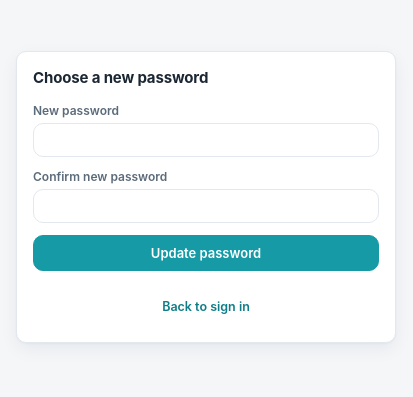
it: ResetPasswordPage › submit_WhenResetFails_ShouldRenderTheGenericFailureMessage
In the password field labelled "New password": (206, 140) x1=33 y1=123 x2=379 y2=157, type "brand-new-password"
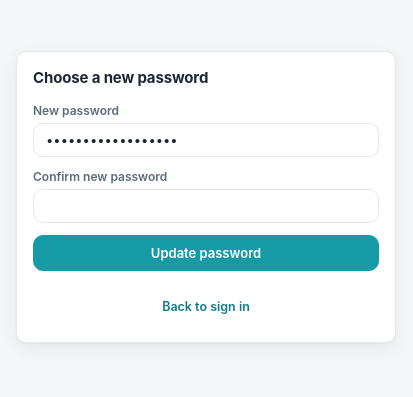
In the password field labelled "Confirm new password": (206, 206) x1=33 y1=189 x2=379 y2=223, type "brand-new-password"
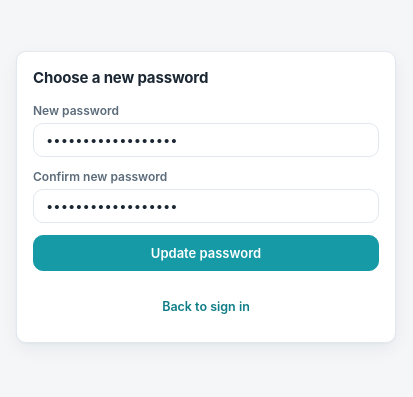
Click the button "Update password": (206, 253) x1=33 y1=235 x2=379 y2=271
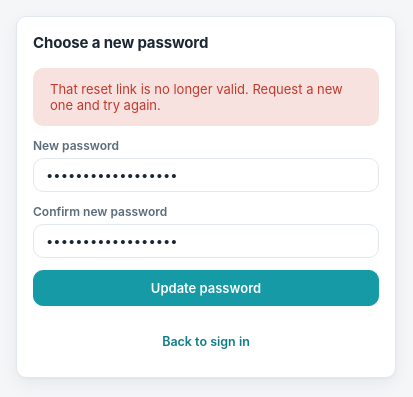
Expected: the message reads "That reset link is no longer valid. Request a new one and try again.", x1=50 y1=81 x2=343 y2=113
